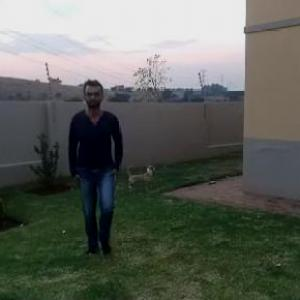follow: (73, 81, 126, 241)
